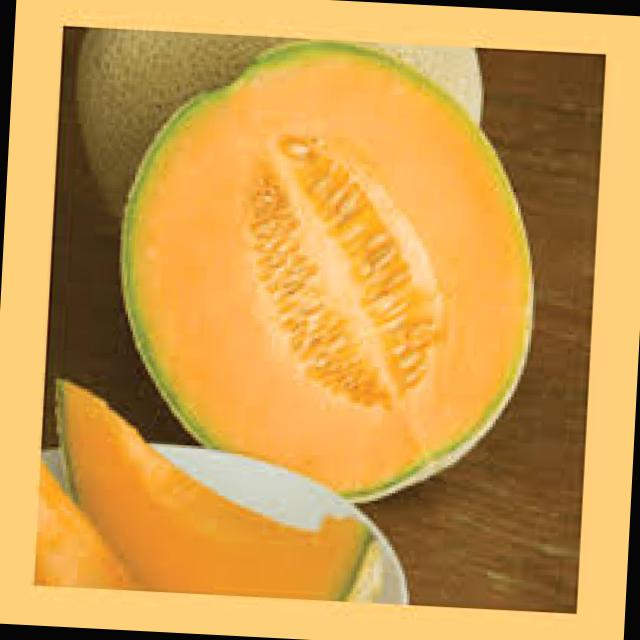cantaloupe: (111, 33, 546, 504), (46, 376, 388, 601)
